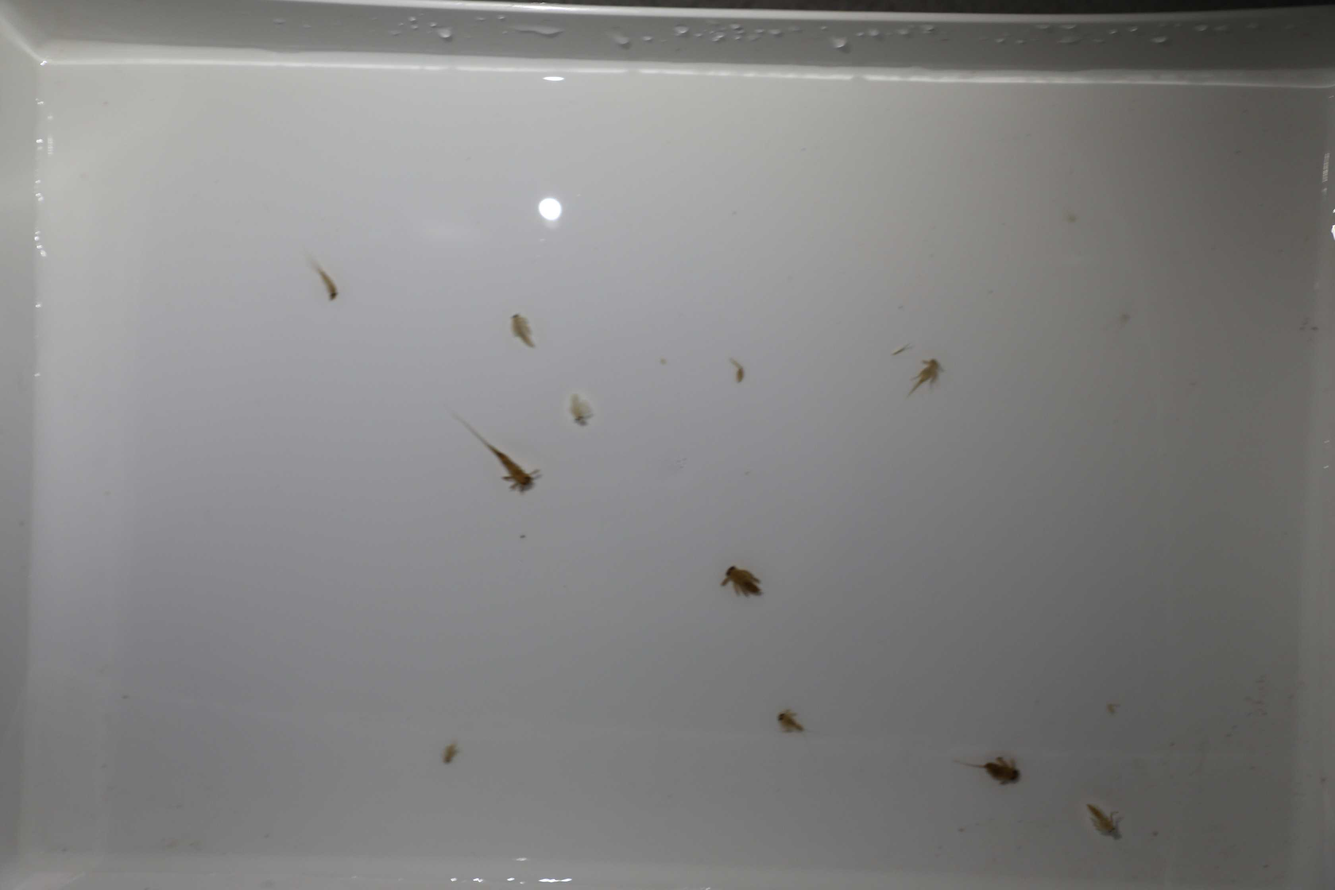Mayfly: (446, 408, 540, 495), (953, 751, 1024, 791), (712, 560, 771, 603), (296, 253, 347, 302), (1082, 798, 1128, 850), (900, 355, 951, 401), (505, 312, 542, 350), (436, 728, 469, 769), (563, 391, 596, 429), (771, 707, 807, 740)
